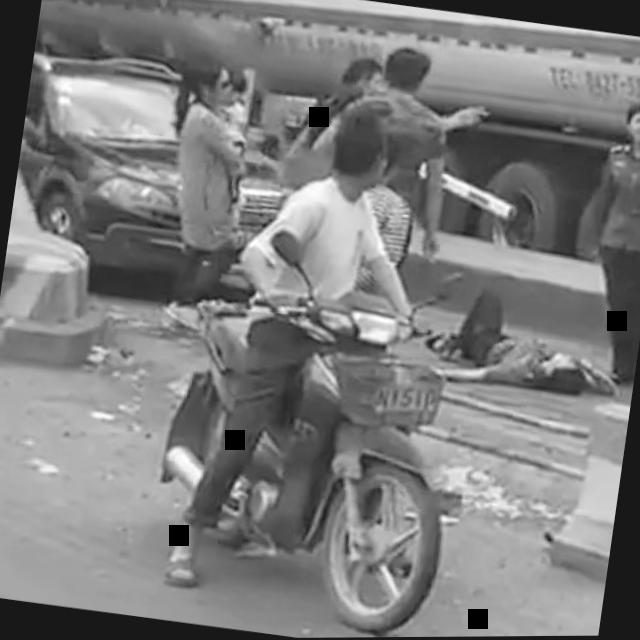Fall-Detected: (406, 270, 634, 407)
